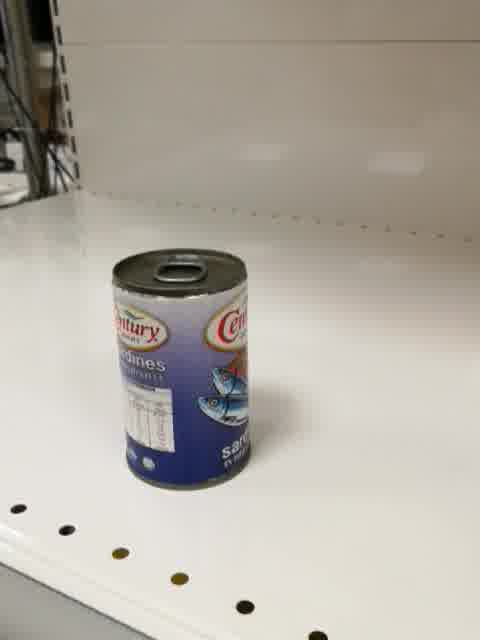sardine: (111, 246, 253, 493)
